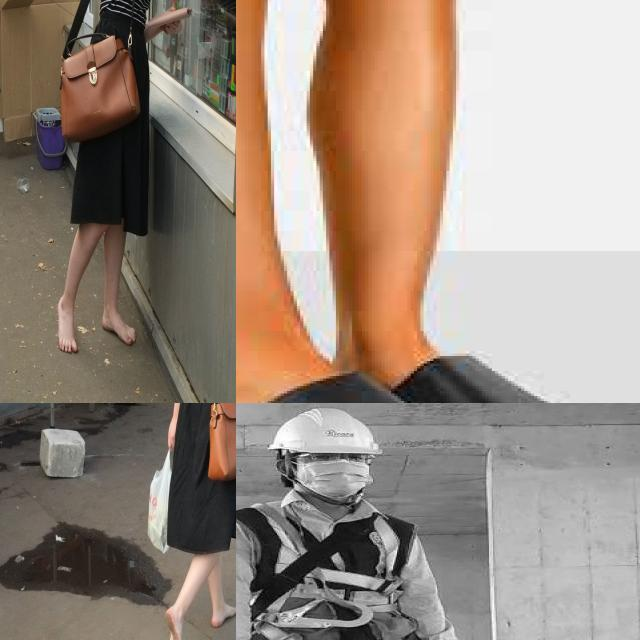Barefoots: (57, 296, 78, 353), (102, 311, 136, 345), (164, 605, 184, 640), (211, 604, 236, 628)
No_Ear-Protection: (268, 455, 290, 484)
Sandals: (236, 340, 498, 403)
face_nomask: (296, 462, 373, 501)
person: (236, 406, 517, 640)
